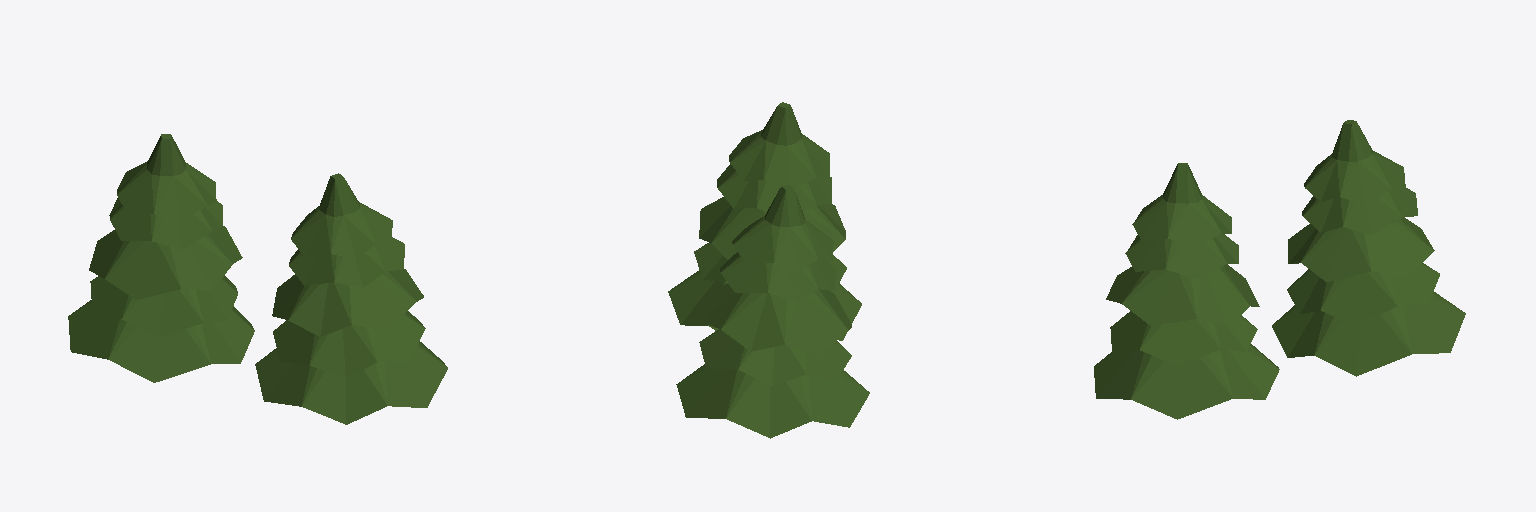
File: treeleaf2.obj
3 views of the same model, side by side, from view 1: azimuth 30°, elevation 25°; view 2: azimuth 150°, elevation 25°; view 3: azimuth 270°, elevation 25° (orthographic).
Visible parts, largest first — view 1: Cube.002; view 2: Cube.002; view 3: Cube.002.
Boxes of the visible parts, box(x1,y1,x2,y2) form: Cube.002: box(68, 134, 447, 424); Cube.002: box(668, 102, 869, 438); Cube.002: box(1094, 120, 1465, 419).
Size of the model in its own units: 3.42 by 2.64 by 4.13.